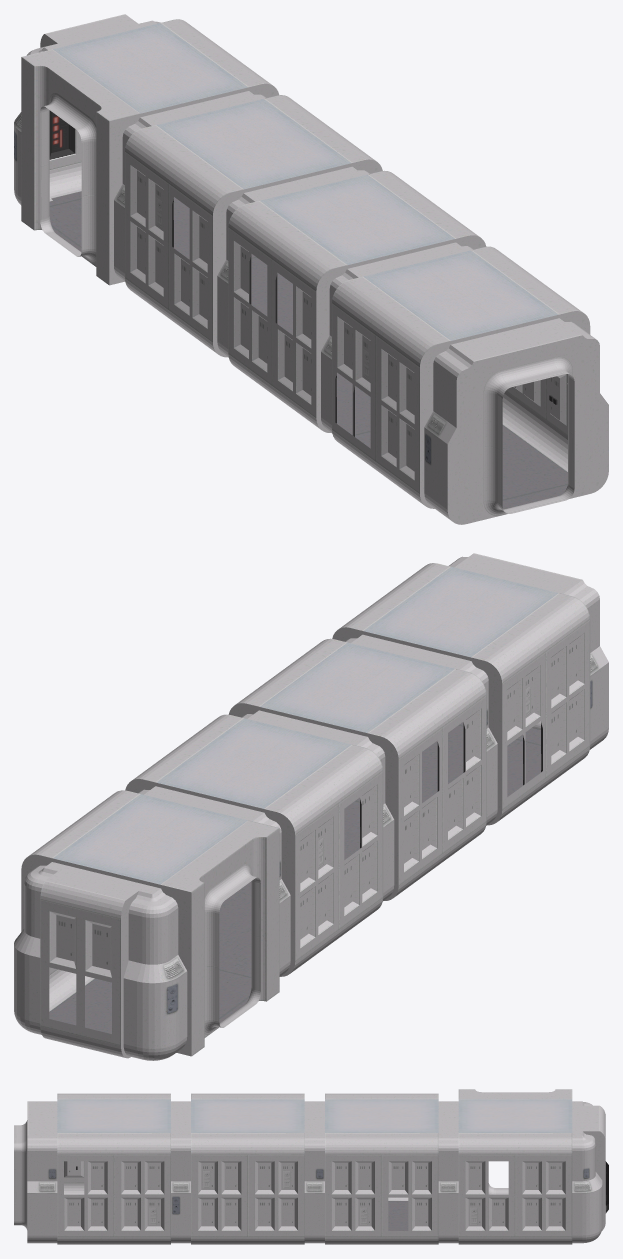
The model's file is thm_spc_corvette_dungeon_r14_hall14_mesh_r14.fbx.
3 views of the same model, one above another, from view 1: azimuth 30°, elevation 25°; view 2: azimuth 150°, elevation 25°; view 3: azimuth 270°, elevation 25° (orthographic). The views are drawn at different scales.
Visible parts, largest first — view 1: mesh_node; view 2: mesh_node; view 3: mesh_node.
Boxes of the visible parts, <box> form: mesh_node: <box>14,14,608,524</box>; mesh_node: <box>14,553,608,1060</box>; mesh_node: <box>14,1089,608,1244</box>.
Size of the model in its own units: 4 by 3.5 by 17.8.
